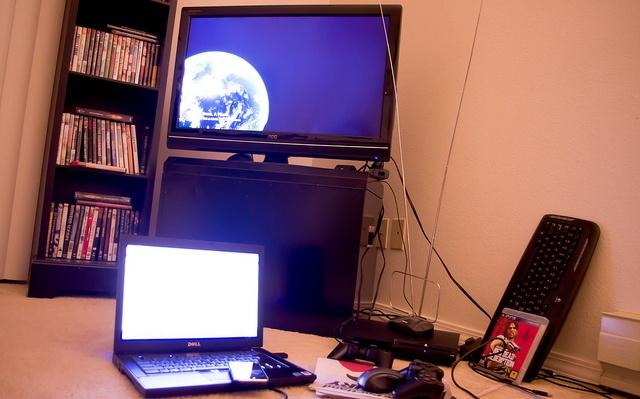AIO PC-Monitor-TV: (165, 0, 402, 162)
Rak: (28, 0, 176, 267)
